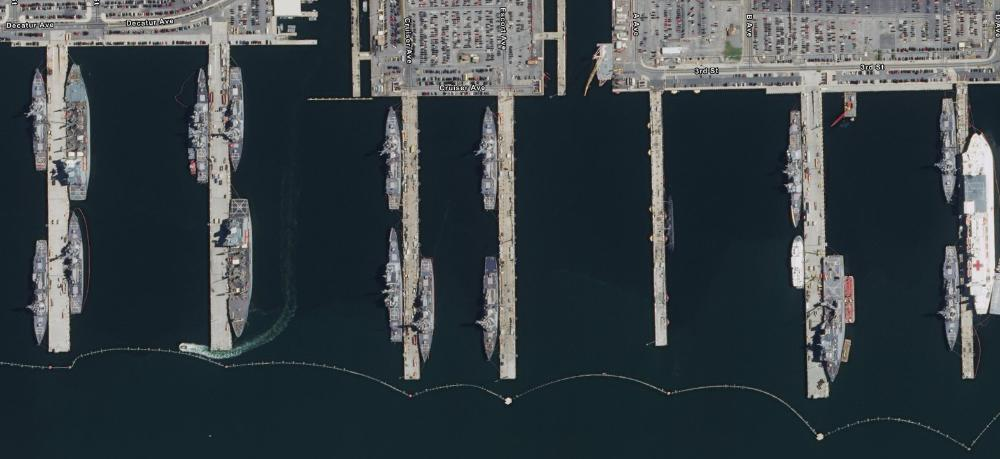cruiser: (384, 229, 405, 348), (194, 70, 210, 184)
destroyer: (786, 109, 805, 228)
fregate: (66, 214, 91, 322), (416, 258, 439, 365), (384, 104, 406, 213), (27, 69, 50, 173), (30, 240, 50, 347), (228, 66, 248, 172), (482, 104, 500, 216), (938, 95, 956, 206), (481, 255, 499, 363), (943, 244, 959, 352)
submarine: (665, 193, 679, 249)
tender: (61, 59, 91, 202)
